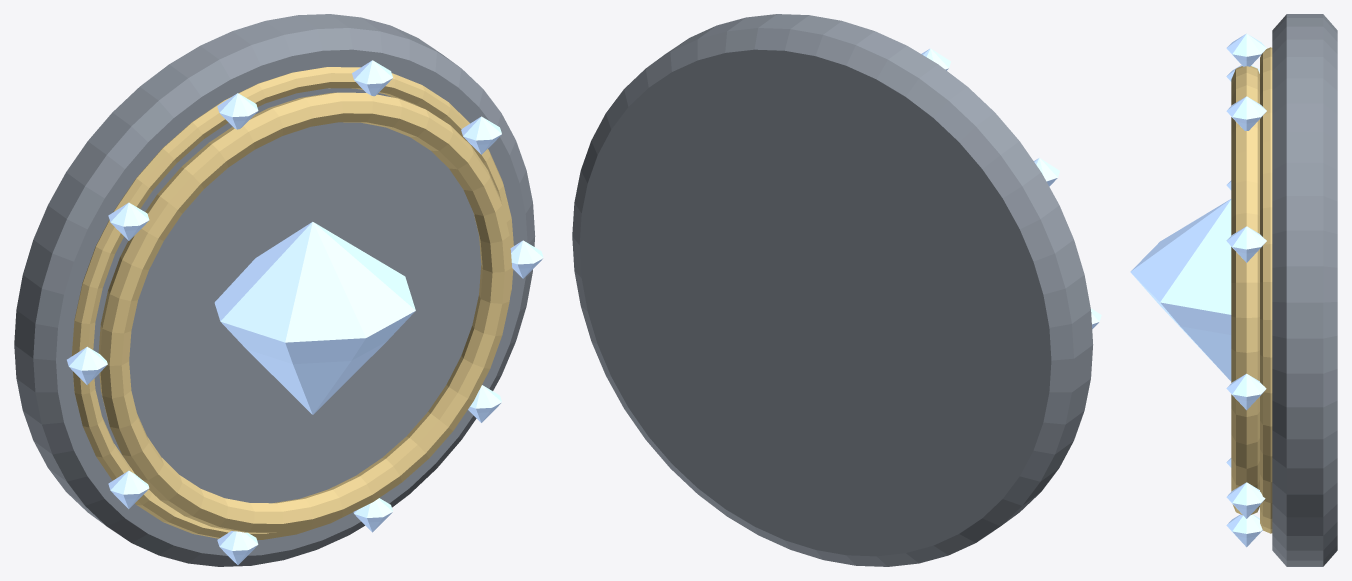
Rendered from van_relic.gltf.
The picture shows the model from 3 angles, left to right: view 1: azimuth 30°, elevation 25°; view 2: azimuth 150°, elevation 25°; view 3: azimuth 270°, elevation 25°; orthographic projection. The views are drawn at different scales.
Visible parts, largest first — view 1: van_shield_relic_review; view 2: van_shield_relic_review; view 3: van_shield_relic_review.
Part boxes in pixels (x1,y1,x2,y2): van_shield_relic_review: [14, 14, 543, 566]; van_shield_relic_review: [572, 14, 1101, 566]; van_shield_relic_review: [1130, 14, 1337, 566].
Bounding box in the file's own units: 0.76 × 0.76 × 0.285.
